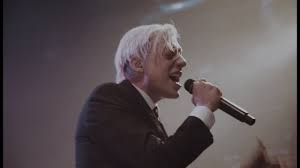No-Glasses: (158, 42, 187, 62)
